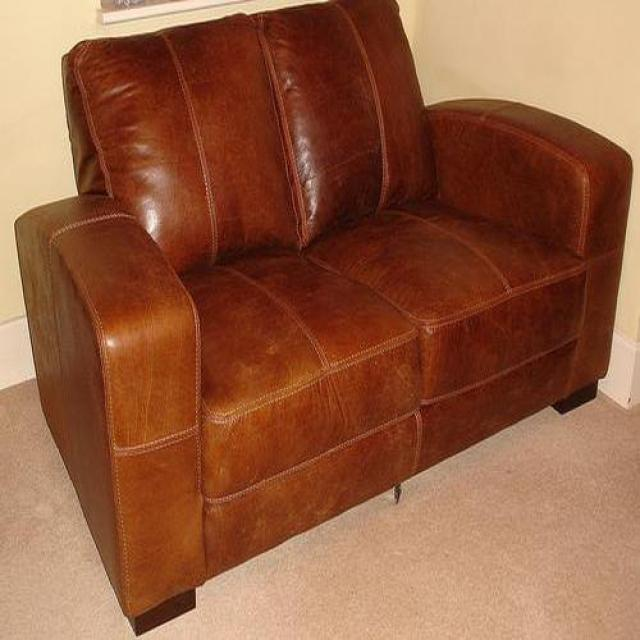sofa: (15, 0, 634, 634)
